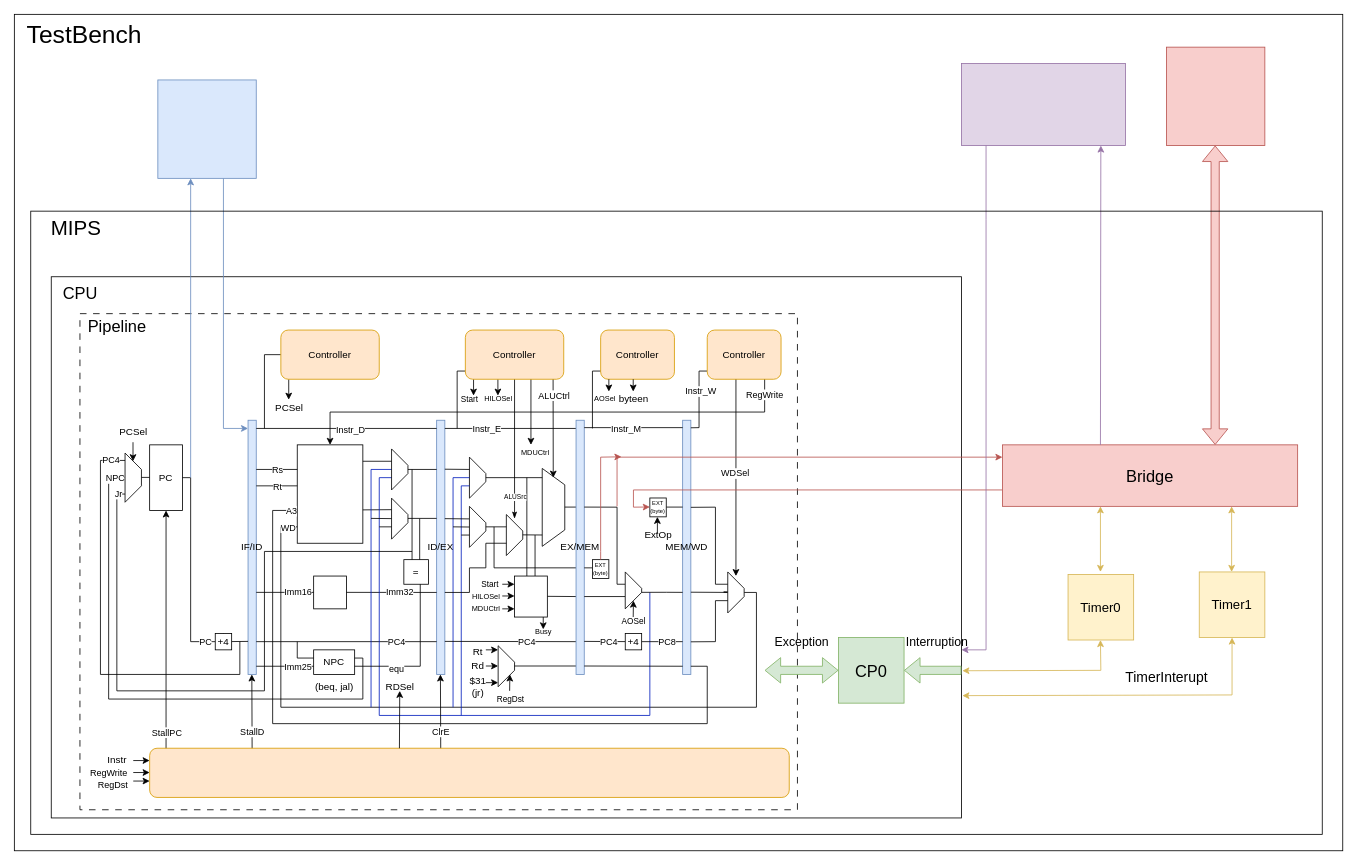
Some shapes in this 1357 by 865 pixel diagram are drawn without their labels. Each missing label, with the centre of its shape:
"ALU" belongs at [553,507].
"DM" belongs at [1215,96].
"EXT (sign)" belongs at [329,592].
"GRF" belongs at [329,493].
"HazardCtrl" belongs at [469,772].
"IM" belongs at [206,128].
"InterruptGenerator" belongs at [1043,104].
"MDU" belongs at [530,596].
